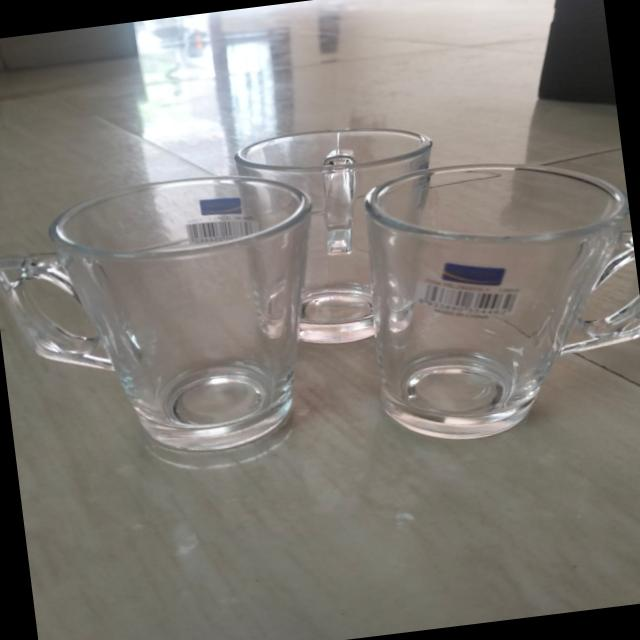glass-VX4N: (0, 161, 337, 468), (351, 141, 640, 449), (232, 114, 470, 345)
